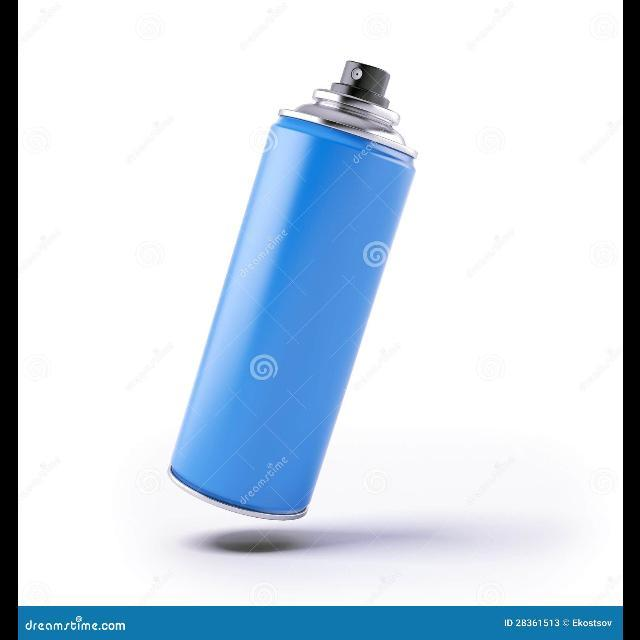chemical_spray_can: (155, 45, 425, 551)
